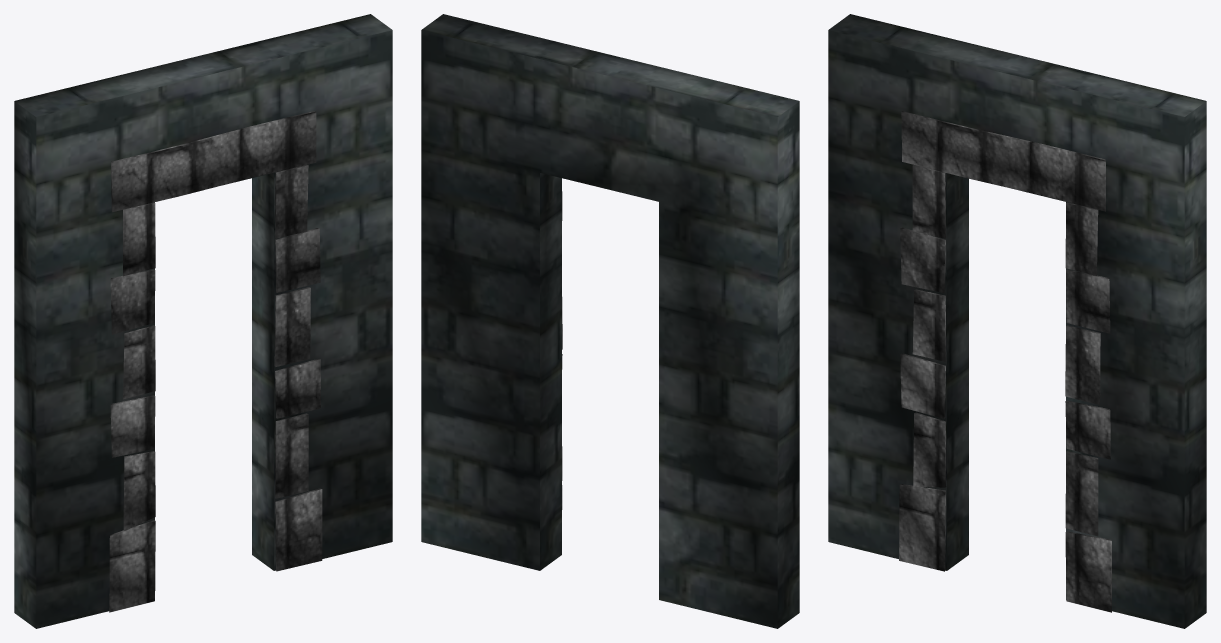
File: dark stone door2.glb
3 views of the same model, side by side, from view 1: azimuth 30°, elevation 25°; view 2: azimuth 150°, elevation 25°; view 3: azimuth 330°, elevation 25° (orthographic).
Parts seen in each view (by area): view 1: Circular Doorway.006; view 2: Circular Doorway.006; view 3: Circular Doorway.006.
Part boxes in pixels (box(x1,y1,x2,y2)): Circular Doorway.006: box(14, 14, 392, 628); Circular Doorway.006: box(421, 14, 799, 628); Circular Doorway.006: box(828, 14, 1206, 628).
Size of the model in its own units: 2 by 2.75 by 0.225.
Materials: 2 (2 with a texture image).
